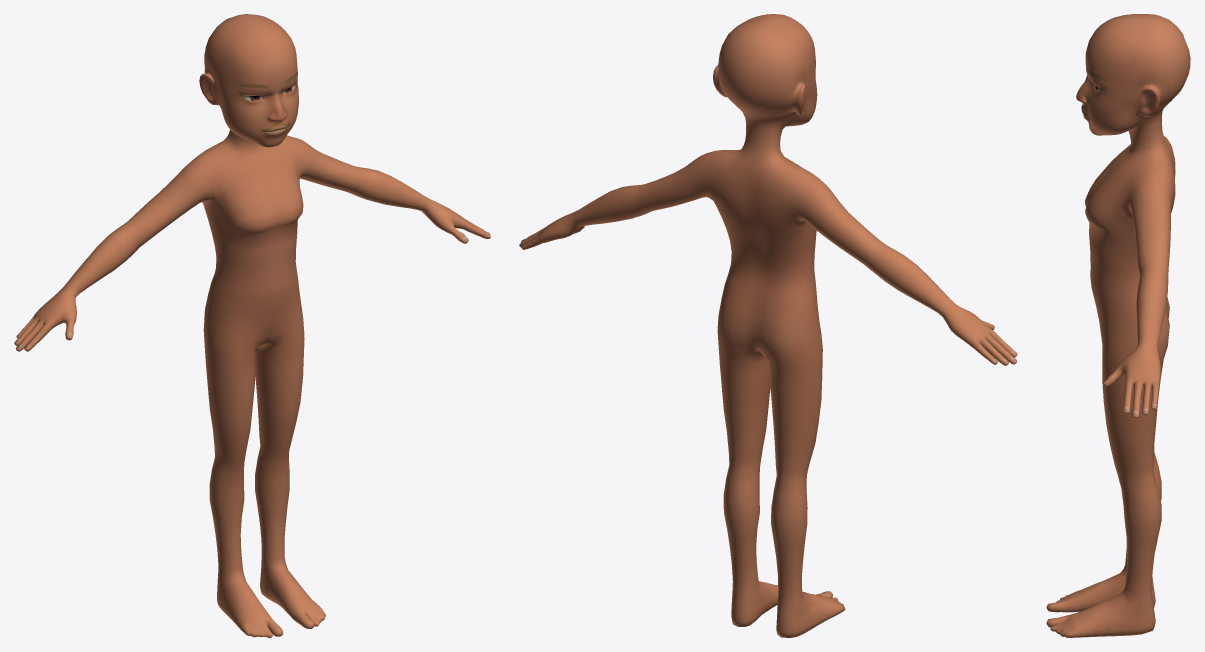
The model's file is frame_0022.glb.
3 views of the same model, side by side, from view 1: azimuth 30°, elevation 25°; view 2: azimuth 150°, elevation 25°; view 3: azimuth 270°, elevation 25° (orthographic). The views are drawn at different scales.
Parts seen in each view (by area): view 1: frame_0022_head_geo; view 2: frame_0022_head_geo; view 3: frame_0022_head_geo.
Boxes of the visible parts, bbox=[...] form: frame_0022_head_geo: bbox=[14, 14, 490, 637]; frame_0022_head_geo: bbox=[519, 14, 1017, 637]; frame_0022_head_geo: bbox=[1046, 14, 1190, 637].
Bounding box in the file's own units: 1.28 × 1.5 × 0.3253.
3 materials, 3 textured.
